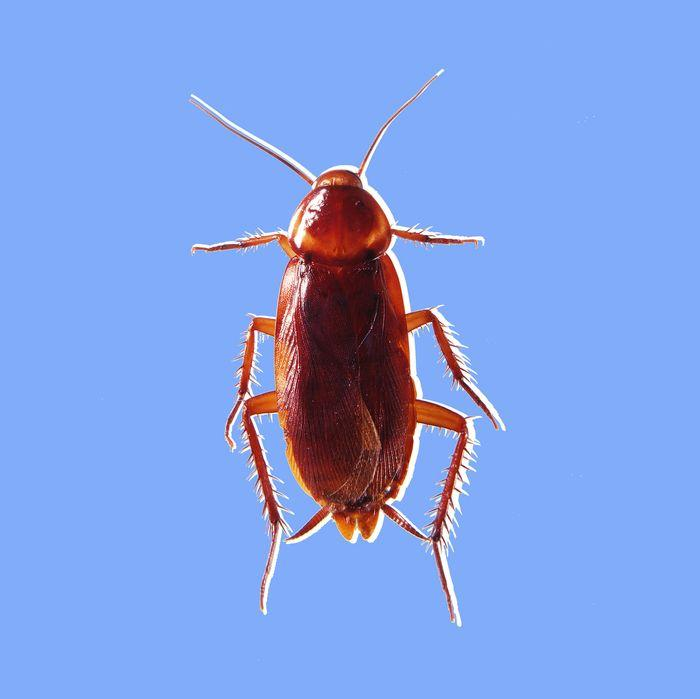cockroach: (255, 156, 442, 554)
